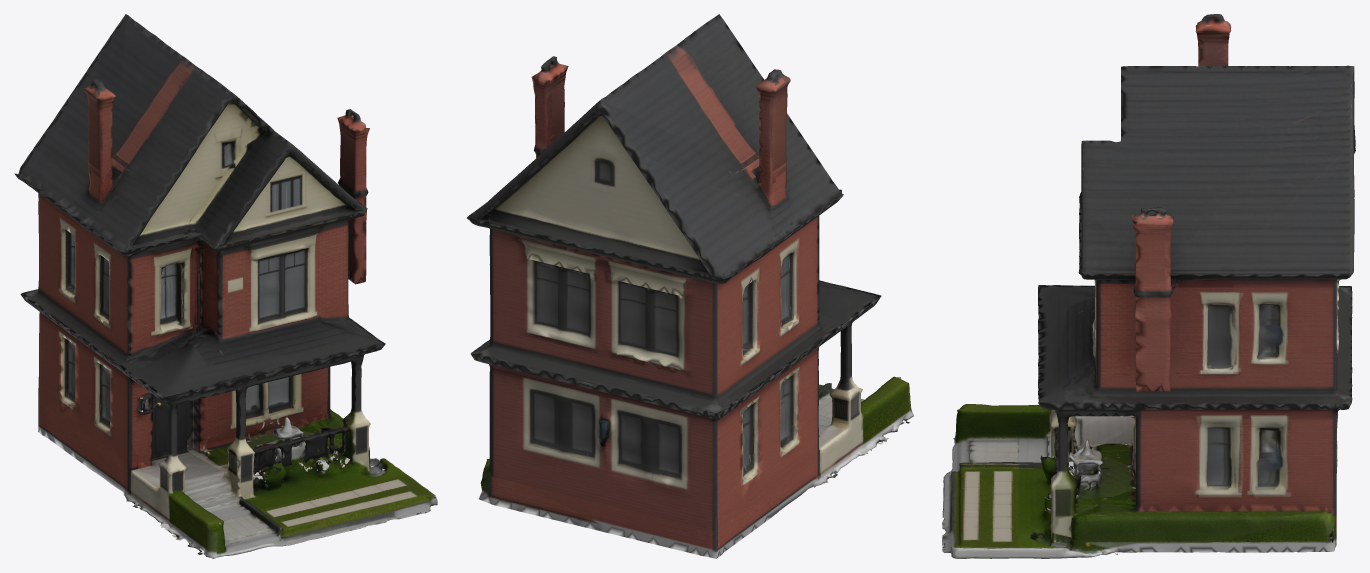
The model's file is meshy_text_refined_019b6526-3c9a-791e-a679-e91ddc2baab6.glb.
3 renders of one model, left to right at view 1: azimuth 30°, elevation 25°; view 2: azimuth 150°, elevation 25°; view 3: azimuth 270°, elevation 25°, orthographic. The views are drawn at different scales.
Size of the model in its own units: 1.3 by 1.9 by 1.66.
Materials: 1 (1 with a texture image).
